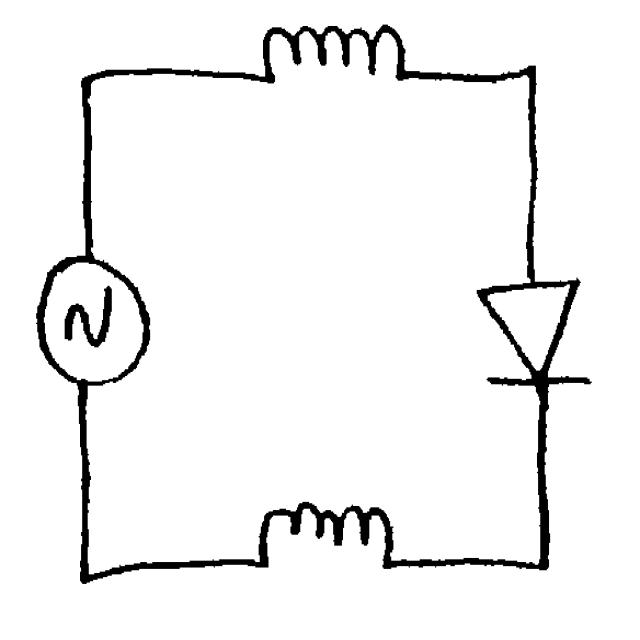ac: (28, 247, 158, 400)
inductor: (466, 265, 602, 409), (242, 489, 410, 595), (248, 11, 418, 100)
